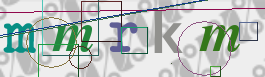k: (153, 9, 183, 54)
m: (52, 24, 94, 53), (199, 24, 241, 52), (3, 21, 36, 55)
r: (108, 20, 138, 54)
